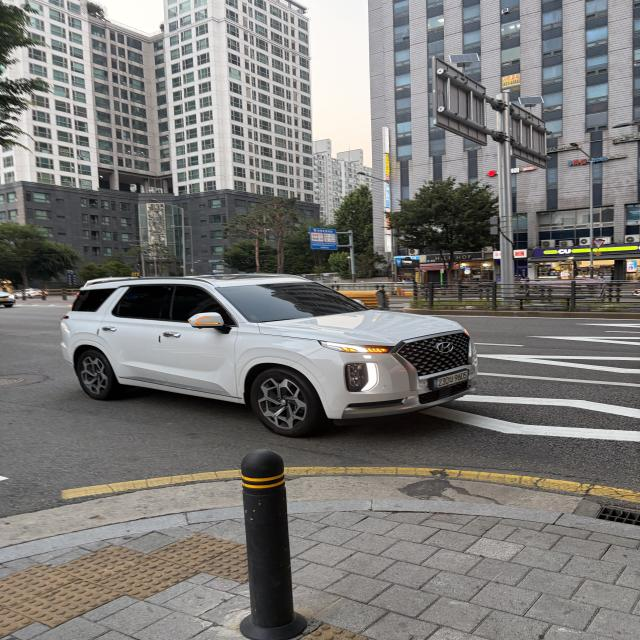car: (54, 260, 512, 450)
